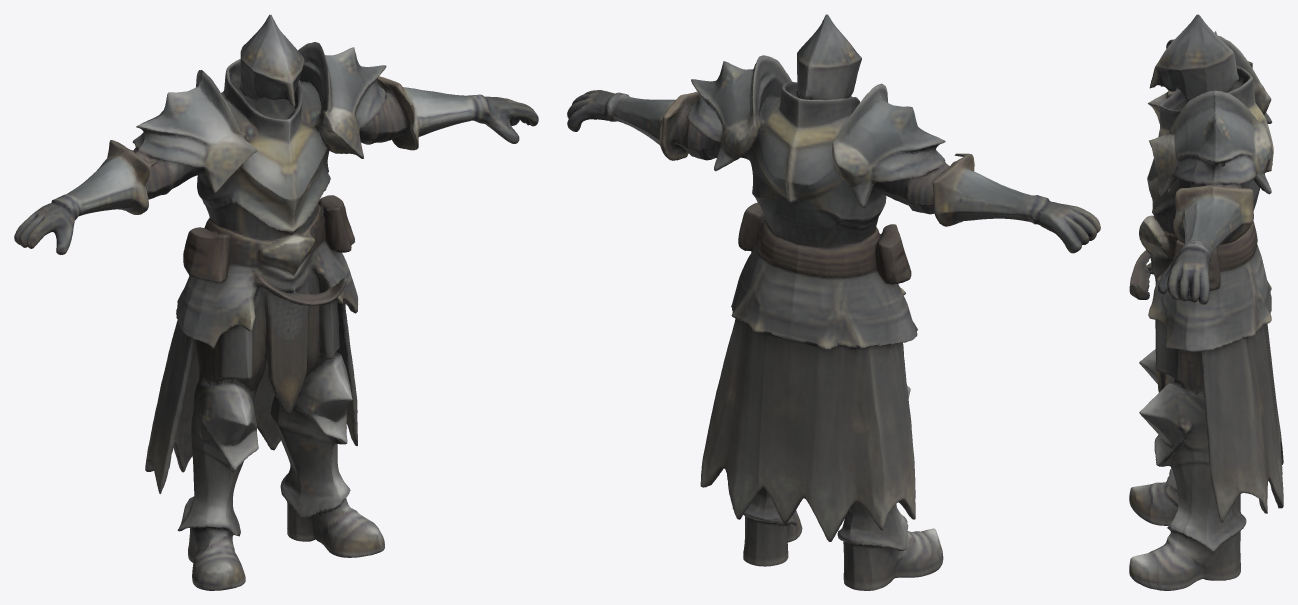
The model's file is npc_warrior.glb.
3 renders of one model, left to right at view 1: azimuth 30°, elevation 25°; view 2: azimuth 150°, elevation 25°; view 3: azimuth 270°, elevation 25°, orthographic. The views are drawn at different scales.
Parts seen in each view (by area): view 1: world; view 2: world; view 3: world.
Boxes of the visible parts, x1,y1,x2,y2 form: world: (14,14,538,590); world: (567,14,1100,590); world: (1129,14,1283,590).
Bounding box in the file's own units: 0.9994 × 0.9989 × 0.2617.
